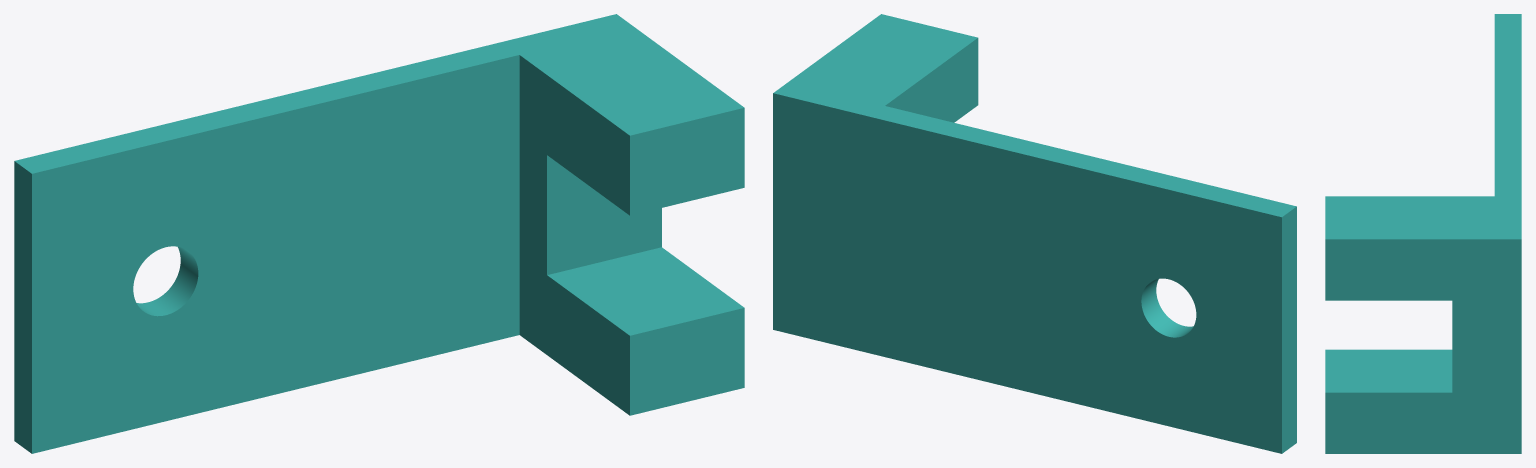
Rendered from speed_sensor.glb.
3 renders of one model, left to right at view 1: azimuth 30°, elevation 25°; view 2: azimuth 150°, elevation 25°; view 3: azimuth 270°, elevation 25°, orthographic. The views are drawn at different scales.
Size of the model in its own units: 0.0315 by 0.014 by 0.0116.
